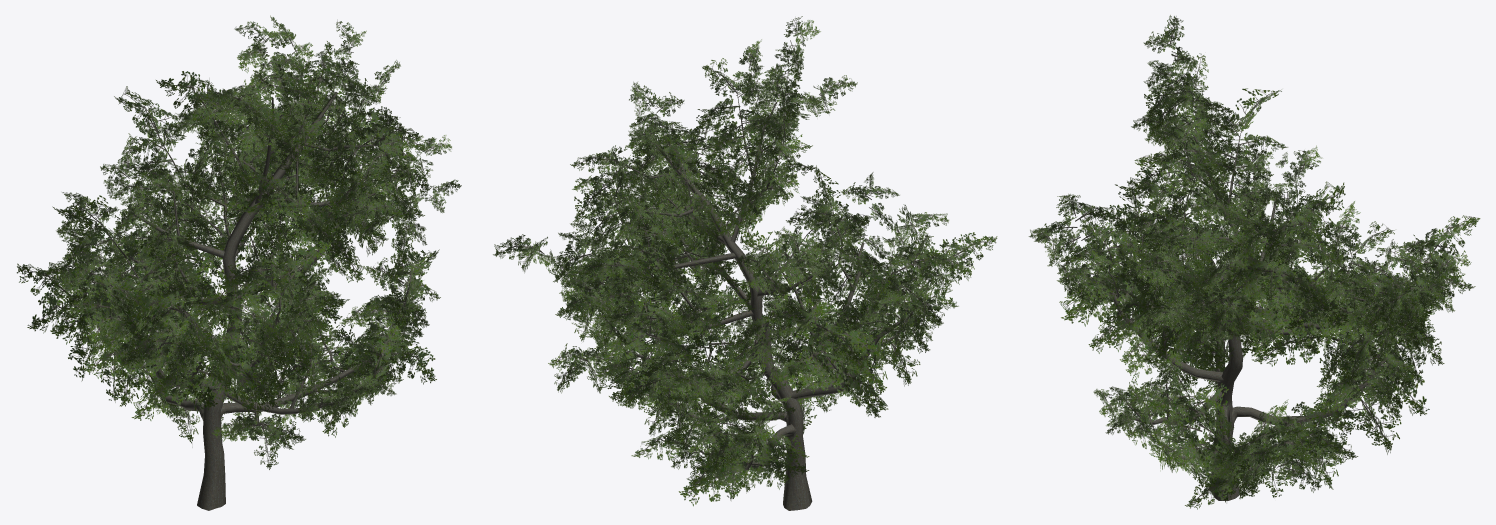
File: oak_large_1.glb
The picture shows the model from 3 angles, left to right: view 1: azimuth 30°, elevation 25°; view 2: azimuth 150°, elevation 25°; view 3: azimuth 270°, elevation 25°; orthographic projection. The views are drawn at different scales.
Parts seen in each view (by area): view 1: Large_oak_tree_001_LOD1_Cluster_Mat_0, Large_oak_tree_001_LOD1_Bark_Mat_0; view 2: Large_oak_tree_001_LOD1_Cluster_Mat_0, Large_oak_tree_001_LOD1_Bark_Mat_0; view 3: Large_oak_tree_001_LOD1_Cluster_Mat_0, Large_oak_tree_001_LOD1_Bark_Mat_0.
Part boxes in pixels (x1,y1,x2,y2): Large_oak_tree_001_LOD1_Cluster_Mat_0: (16, 15, 461, 469); Large_oak_tree_001_LOD1_Bark_Mat_0: (78, 82, 388, 510); Large_oak_tree_001_LOD1_Cluster_Mat_0: (493, 16, 997, 506); Large_oak_tree_001_LOD1_Bark_Mat_0: (608, 94, 911, 510); Large_oak_tree_001_LOD1_Cluster_Mat_0: (1028, 15, 1480, 509); Large_oak_tree_001_LOD1_Bark_Mat_0: (1081, 113, 1429, 500).
Size of the model in its own units: 23.33 by 26.48 by 22.41.
2 materials, 2 textured.
